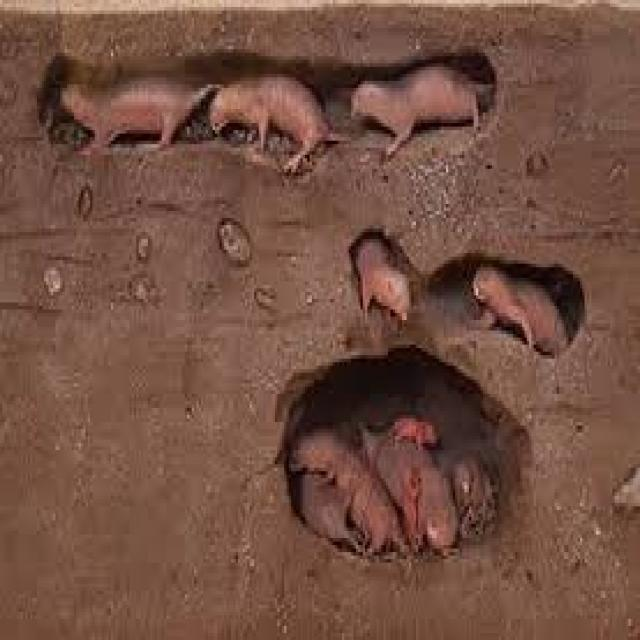rat: (273, 341, 532, 559), (346, 222, 584, 358), (35, 49, 222, 151), (347, 60, 492, 162), (206, 70, 349, 172)
